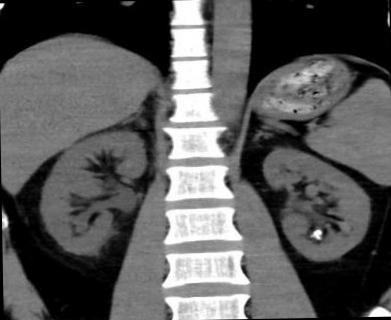Tas_Var: (312, 228, 322, 235), (314, 236, 322, 240), (308, 234, 314, 238)
